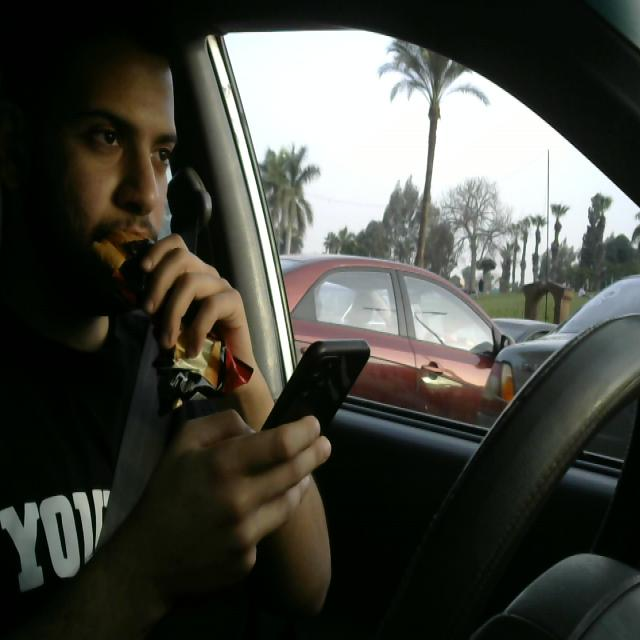eating: (116, 234, 253, 429)
mobile use: (221, 339, 377, 503)
